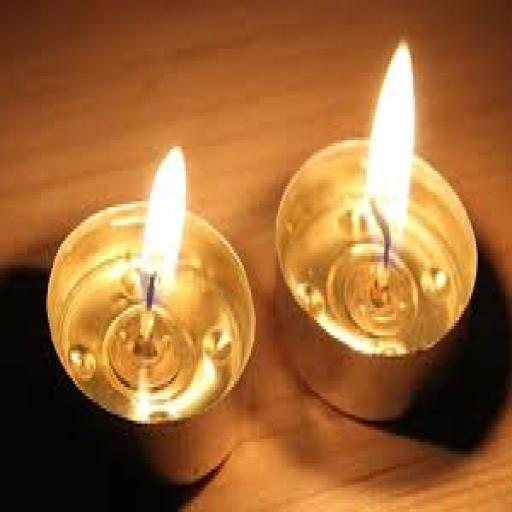fire: (364, 43, 415, 259), (143, 146, 184, 277)
